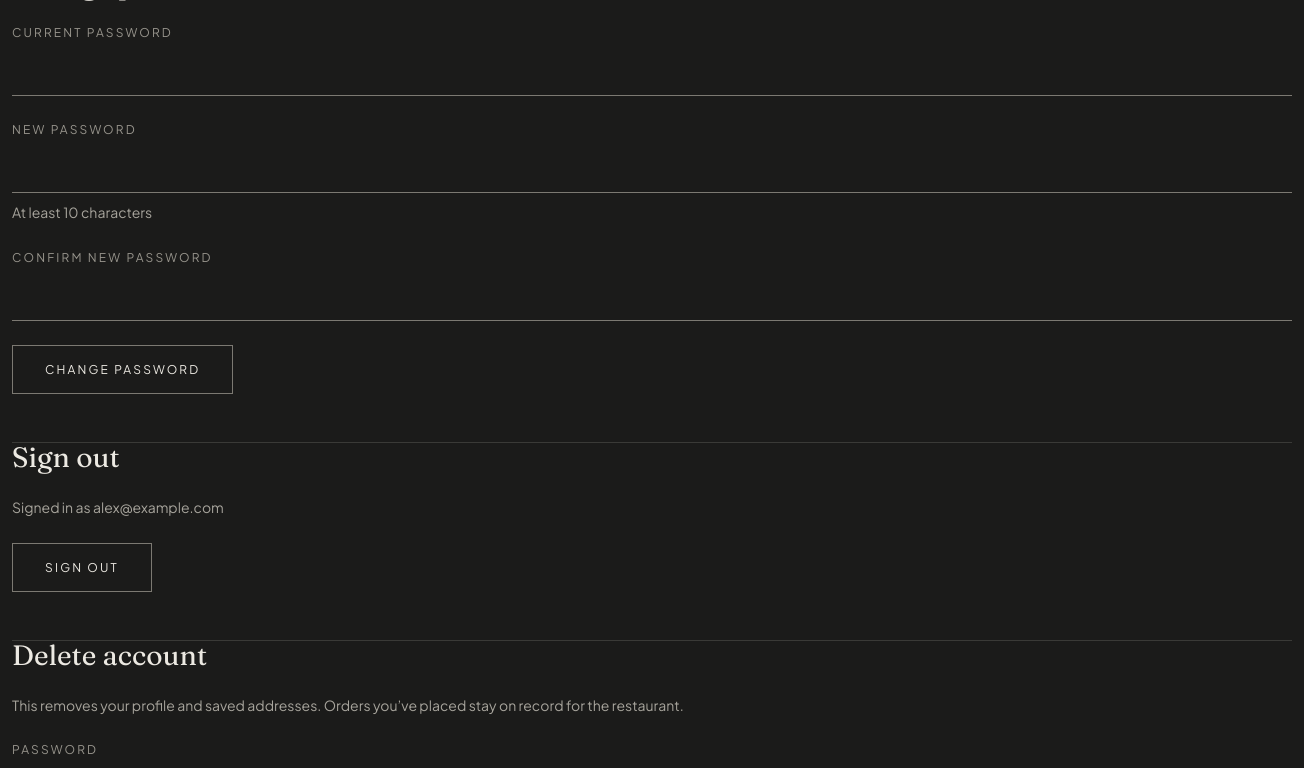
Test case: AccountOverview › changes the password only with the current one
(page scrolled)
Click the button "Change password" at (123, 369), box [12,345,233,394]
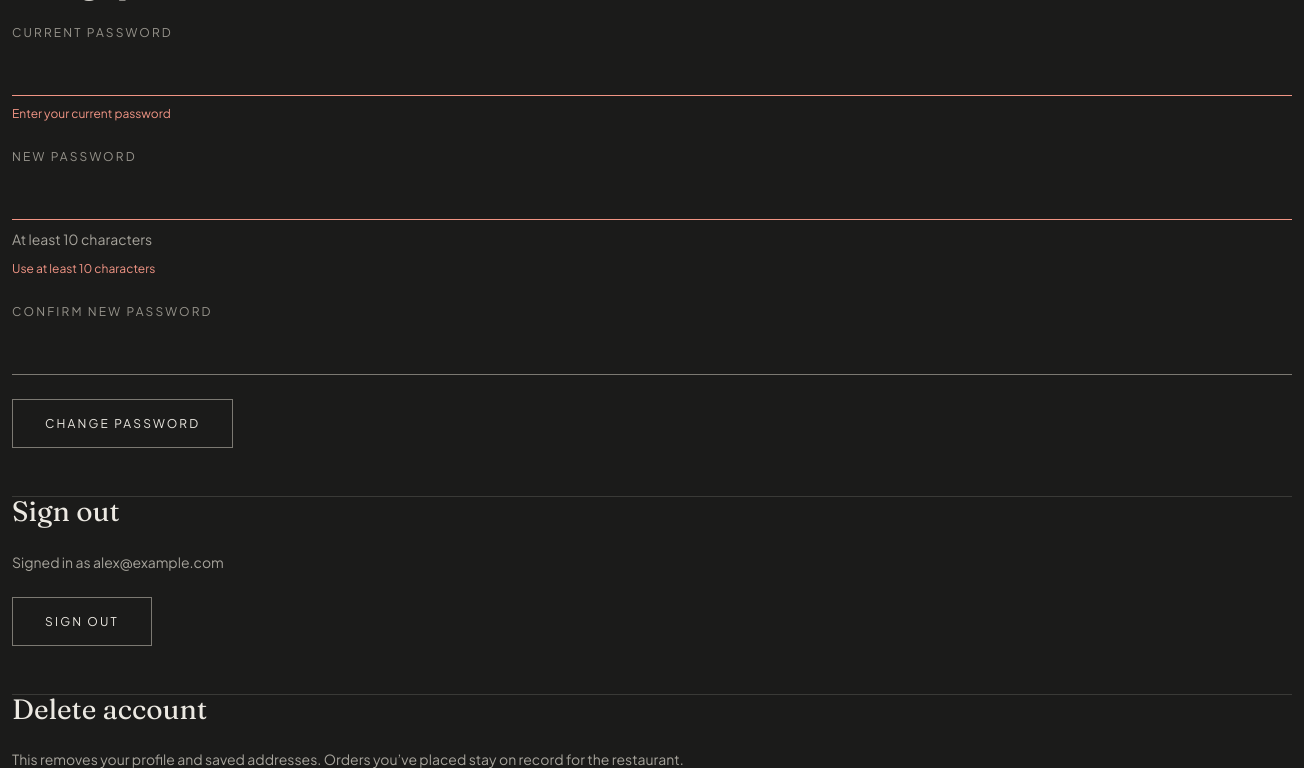
Expected: the text "Enter your current password" is shown, [12,106,171,121]
Expected: the text "Use at least 10 characters" is shown, [12,261,155,276]
Type "not-my-password" into the password field labelled "Current password" at (652, 73), box [12,50,1292,96]
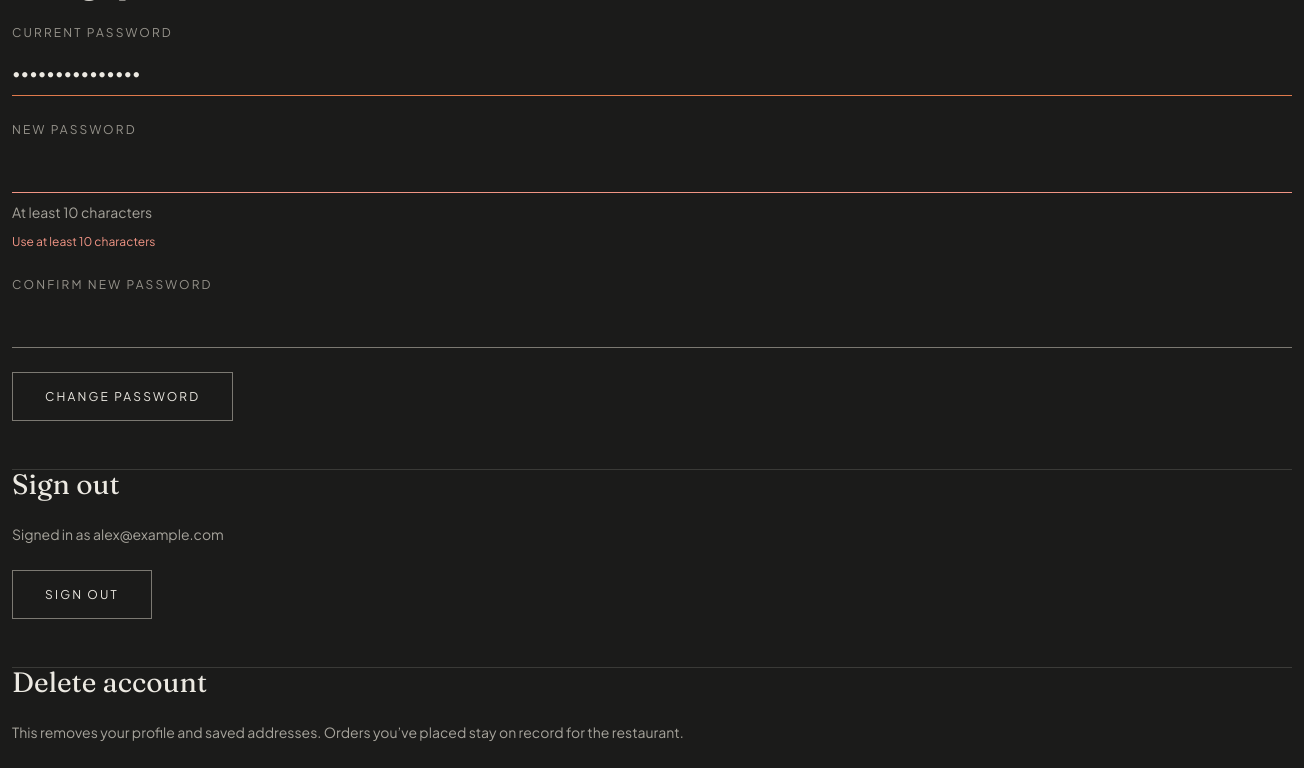
Type "river-stone-new-99" into the password field labelled "New password" at (652, 170), box [12,147,1292,193]
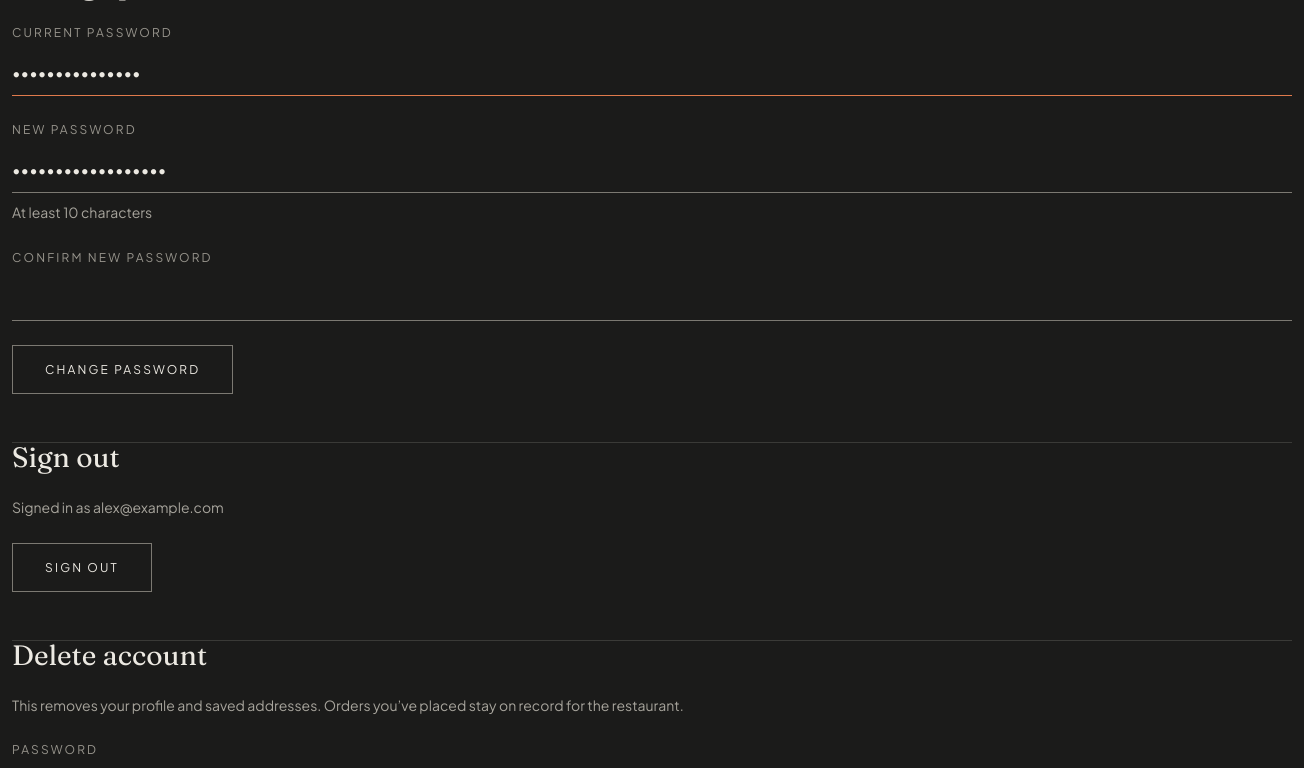
Type "river-stone-new-99" into the password field labelled "Confirm new password" at (652, 298), box [12,275,1292,321]
Click the button "Change password" at (123, 369), box [12,345,233,394]
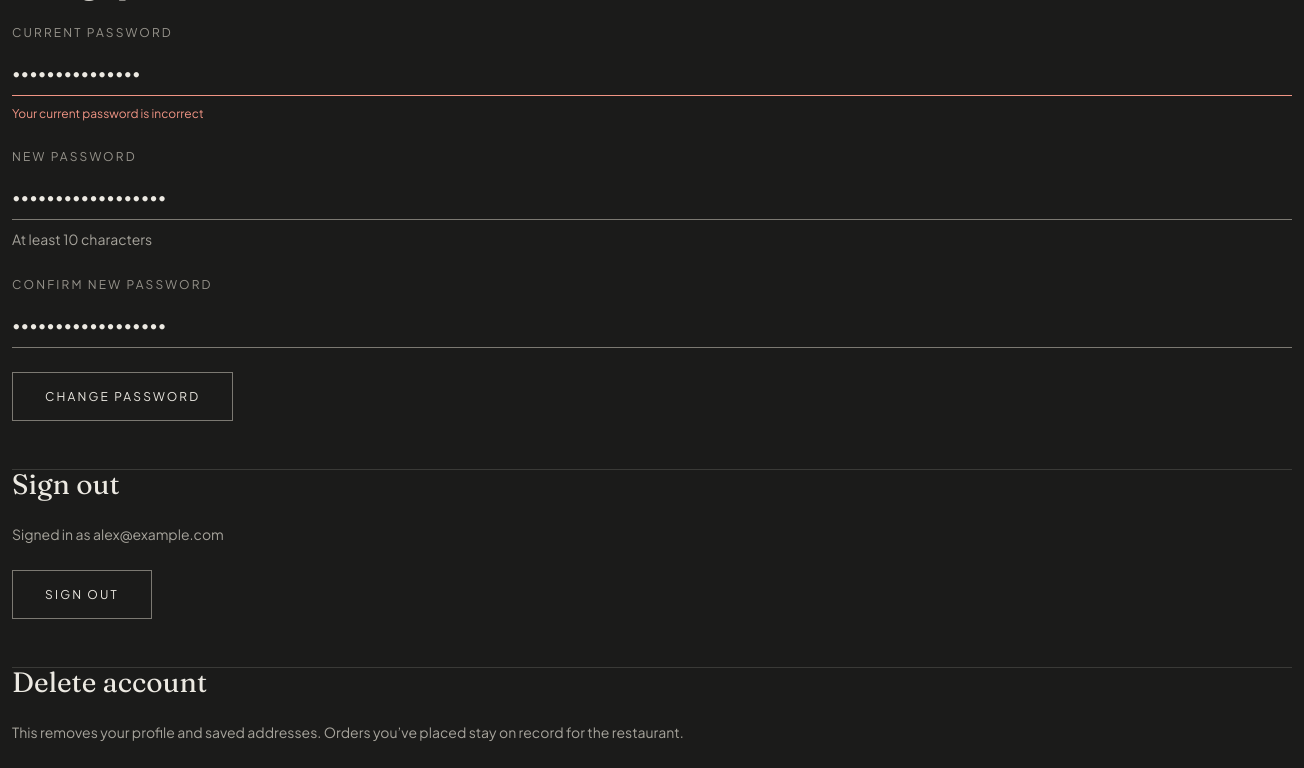
Expected: the text "Your current password is incorrect" is shown, [12,106,204,121]
Type "copper-lantern-42" into the password field labelled "Current password" at (652, 73), box [12,50,1292,96]
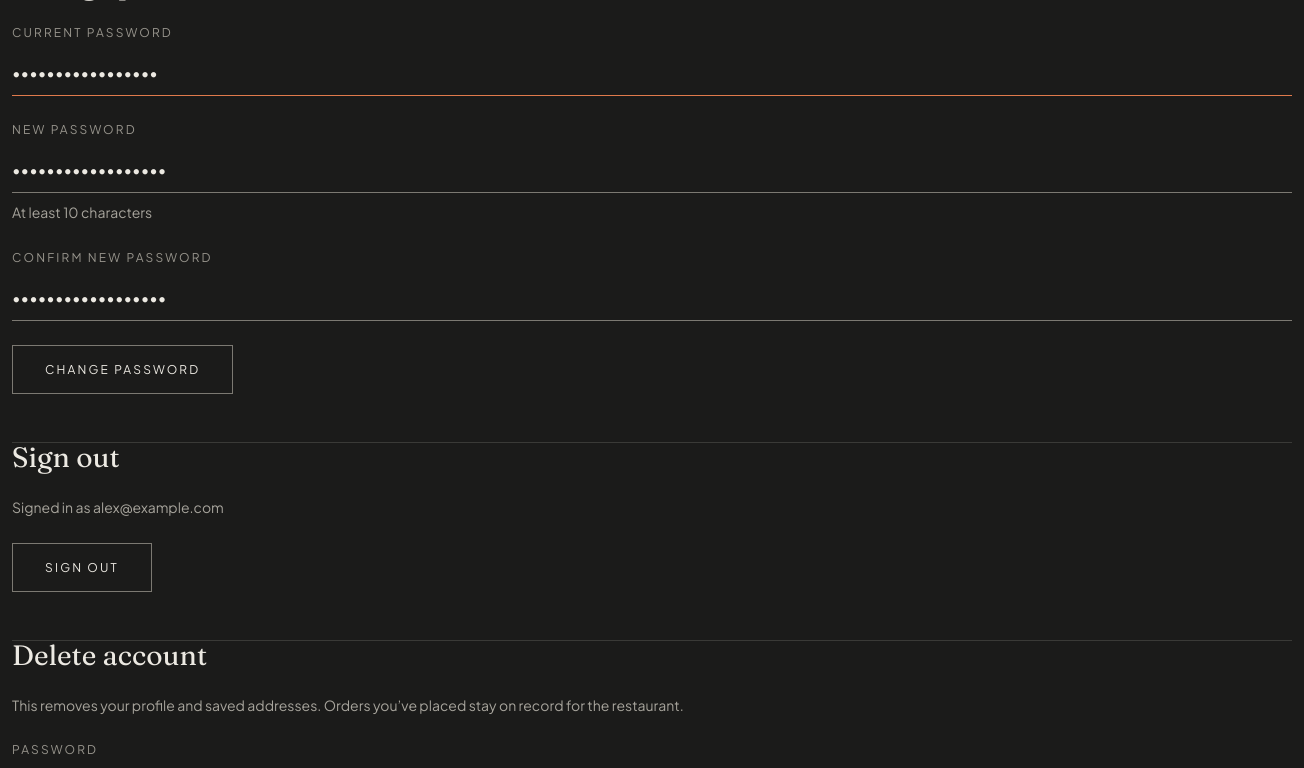
Click the button "Change password" at (123, 369), box [12,345,233,394]
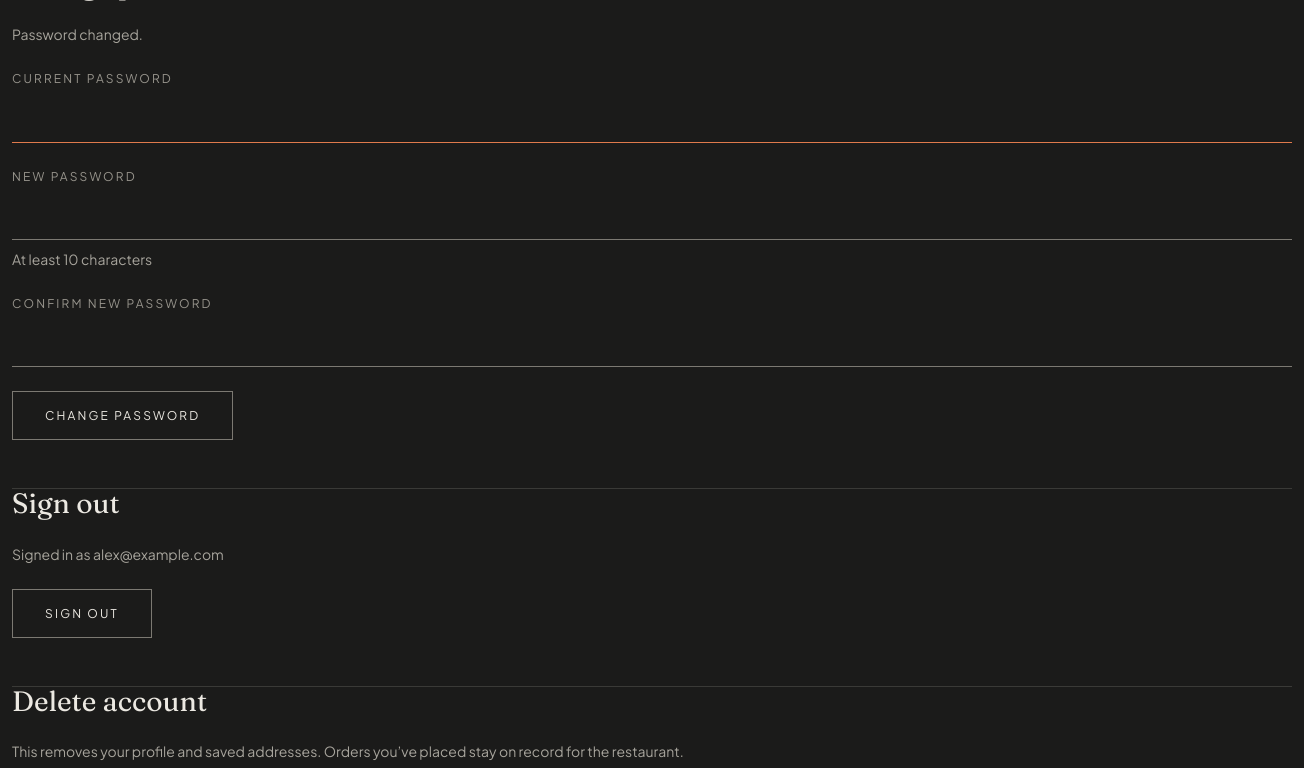
Expected: the text "Password changed." is shown, [12,25,143,43]
Expected: the password field labelled "New password" is empty, [12,194,1292,240]
